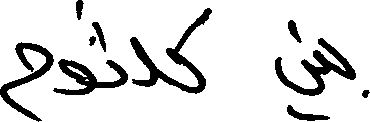ب: (328, 41, 369, 118)
ث: (74, 1, 127, 88)
ك: (169, 5, 211, 93)
ل: (129, 34, 157, 86)
م: (0, 40, 52, 120)
ن: (289, 18, 329, 75)
و: (57, 57, 95, 95)
ي: (273, 53, 315, 120)
